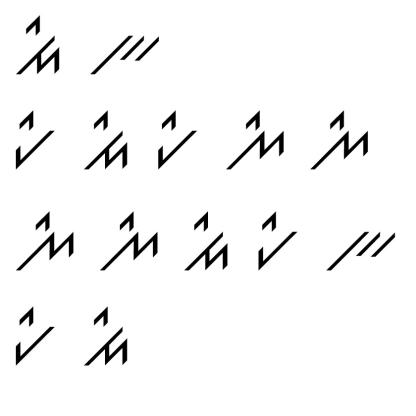di: (177, 210, 231, 275), (12, 13, 66, 78), (81, 108, 132, 172), (84, 305, 135, 369)
ni: (96, 208, 166, 276), (310, 105, 376, 173), (225, 106, 289, 176), (15, 206, 80, 272)
pi: (244, 208, 298, 276), (3, 304, 59, 368), (8, 105, 58, 171), (150, 108, 202, 170)
